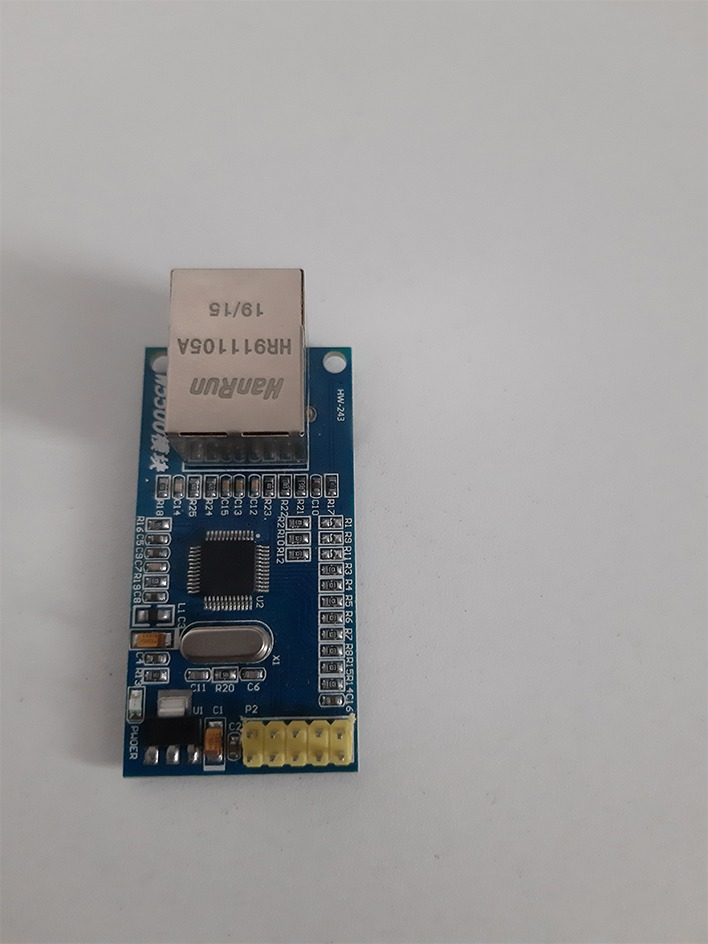Ethernet-W5500: (68, 223, 394, 844)
